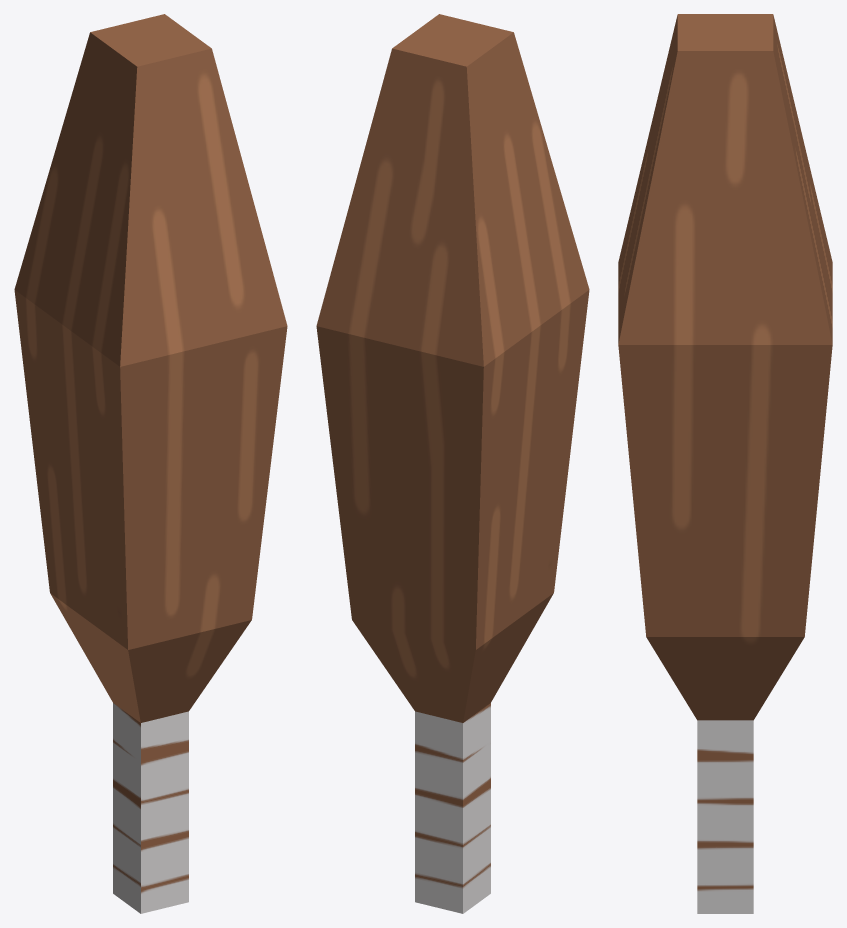
The model's file is konbo.fbx.
3 renders of one model, left to right at view 1: azimuth 30°, elevation 25°; view 2: azimuth 150°, elevation 25°; view 3: azimuth 270°, elevation 25°, orthographic.
Parts seen in each view (by area): view 1: konbo; view 2: konbo; view 3: konbo.
Boxes of the visible parts, x1,y1,x2,y2 form: konbo: [14, 14, 287, 913]; konbo: [316, 14, 589, 913]; konbo: [618, 14, 832, 913].
Size of the model in its own units: 7.92 by 38.79 by 8.66.
1 material, 1 textured.
